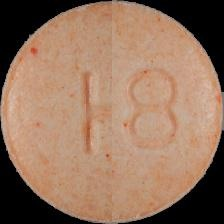31722-519: (0, 0, 224, 224)
